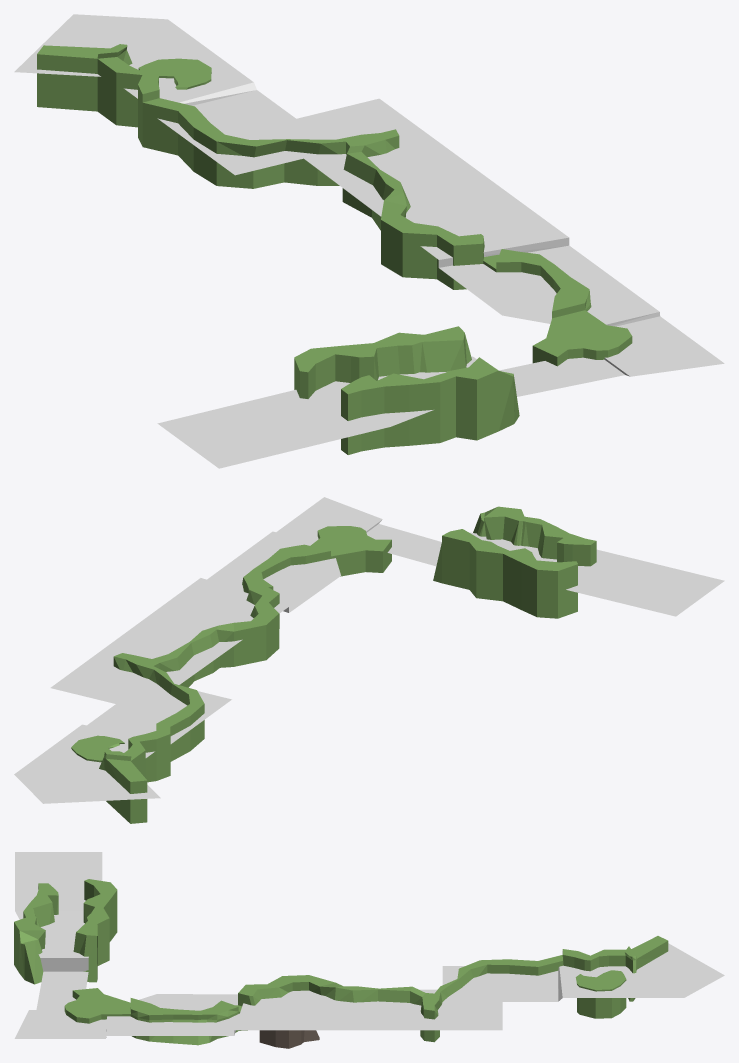
Rendered from reference.fbx.
3 views of the same model, one above another, from view 1: azimuth 30°, elevation 25°; view 2: azimuth 150°, elevation 25°; view 3: azimuth 270°, elevation 25° (orthographic). The views are drawn at different scales.
Visible parts, largest first — view 1: water plane, base left, base right 1st, base left 1st, base last; view 2: water plane, base left, base left 1st, base right 1st, base last; view 3: water plane, base left, base left 1st, base right 1st, base last, base mid.
Boxes of the visible parts, x1=… form: water plane: x1=14, y1=14, x2=724, y2=468; base left: x1=37, y1=44, x2=632, y2=366; base right 1st: x1=341, y1=357, x2=519, y2=454; base left 1st: x1=294, y1=326, x2=471, y2=398; base last: x1=138, y1=58, x2=211, y2=89; water plane: x1=14, y1=497, x2=724, y2=803; base left: x1=99, y1=526, x2=391, y2=823; base left 1st: x1=433, y1=529, x2=577, y2=618; base right 1st: x1=473, y1=506, x2=596, y2=566; base last: x1=71, y1=735, x2=124, y2=762; water plane: x1=14, y1=852, x2=724, y2=1038; base left: x1=64, y1=936, x2=668, y2=1045; base left 1st: x1=73, y1=879, x2=117, y2=982; base right 1st: x1=14, y1=883, x2=58, y2=984; base last: x1=575, y1=970, x2=626, y2=1018; base mid: x1=259, y1=1030, x2=319, y2=1048.
Size of the model in its own units: 342786 by 50725 by 591106.
